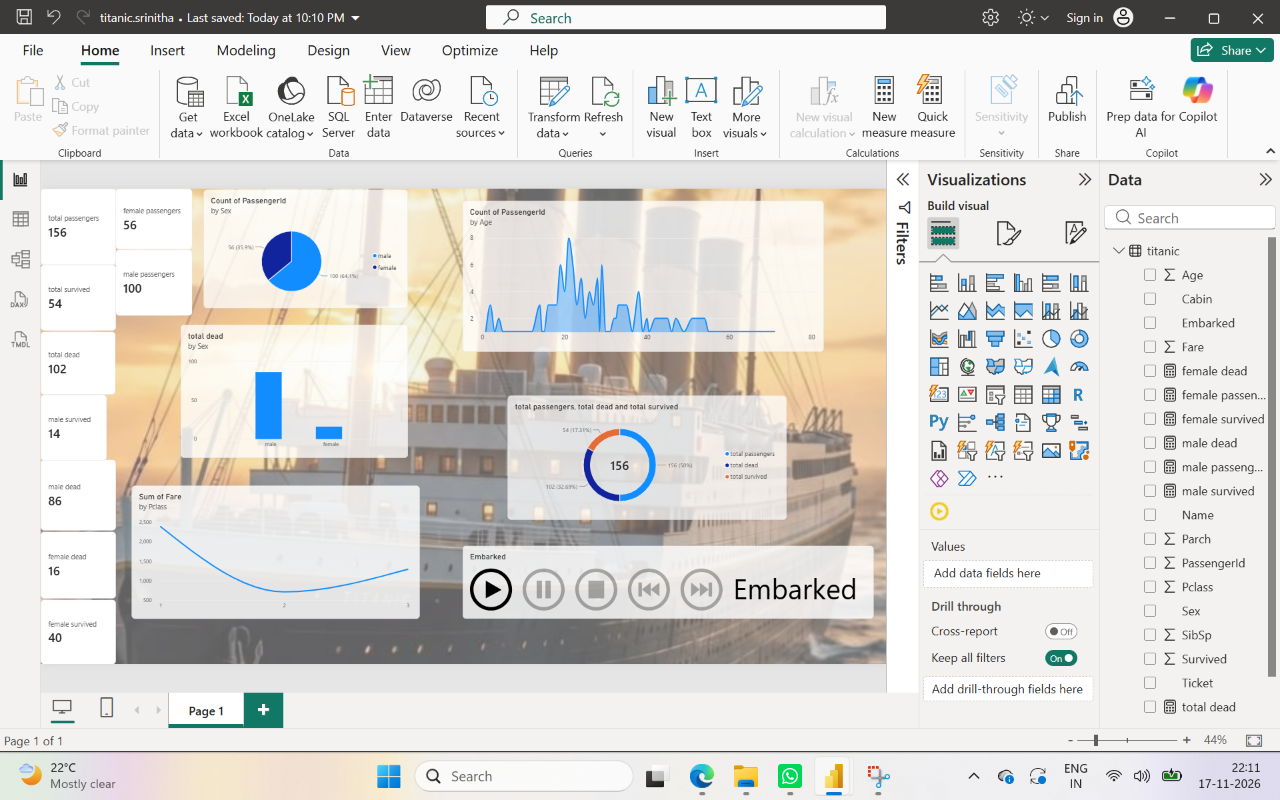

This screenshot's page, from the dashboard's own definition file:
{"tool":"powerbi","page":{"name":"Page 1","canvas":[1920,1080],"ordinal":0},"visuals":[{"type":"cardVisual","fields":{"Data":["titanic.total passengers"]},"box":[0,0,171.4,173.8],"z":0},{"type":"cardVisual","fields":{"Data":["titanic.female passengers"]},"box":[171.4,0,174,138],"z":1},{"type":"cardVisual","fields":{"Data":["titanic.male dead"]},"box":[0,616.7,171.4,161.9],"z":2},{"type":"cardVisual","fields":{"Data":["titanic.male survived"]},"box":[0,467.9,150,150],"z":3},{"type":"cardVisual","fields":{"Data":["titanic.female dead"]},"box":[0,778.6,171.4,152.4],"z":4},{"type":"cardVisual","fields":{"Data":["titanic.female survived"]},"box":[0,933.3,171.4,147.6],"z":5},{"type":"cardVisual","fields":{"Data":["titanic.total dead"]},"box":[0,324.8,170.3,143.1],"z":6},{"type":"cardVisual","fields":{"Data":["titanic.total survived"]},"box":[0,173.8,171.4,150],"z":7},{"type":"pieChart","fields":{"Category":["titanic.Sex"],"Y":["CountNonNull(titanic.PassengerId)"]},"box":[370.5,2.3,464.3,269],"z":8},{"type":"donutChart","fields":{"Y":["titanic.total passengers","titanic.total dead","titanic.total survived"]},"box":[1061.4,470.5,634.1,281.8],"z":10},{"type":"cardVisual","fields":{"Data":["titanic.male passengers"]},"box":[171.4,138.1,174,150],"z":11},{"type":"clusteredColumnChart","fields":{"Category":["titanic.Sex"],"Y":["titanic.total dead"]},"box":[318.2,309.1,516.7,302.4],"z":12},{"type":"lineChart","fields":{"Category":["titanic.Pclass"],"Y":["Sum(titanic.Fare)"]},"box":[206.8,675,654.8,302.4],"z":13},{"type":"PBI_CV_16948668_E17D_454B_8664_2F2C470EA8C1","fields":{"category":["titanic.Embarked"]},"box":[959.1,811.4,934.1,165.9],"z":15},{"type":"areaChart","fields":{"Category":["titanic.Age"],"Y":["CountNonNull(titanic.PassengerId)"]},"box":[959.1,27.3,820.5,343.2],"z":16}]}

Visuals, with their boxes on the page's 1920x1080 design canvas (x1, y1, x2, y2). These are canvas units, not pixel positions in the 1280x800 screenshot, which may show the page scaled, cropped or inside an application window:
cardVisual - titanic.total passengers: locate(0, 0, 171, 174)
cardVisual - titanic.female passengers: locate(171, 0, 345, 138)
cardVisual - titanic.male dead: locate(0, 617, 171, 779)
cardVisual - titanic.male survived: locate(0, 468, 150, 618)
cardVisual - titanic.female dead: locate(0, 779, 171, 931)
cardVisual - titanic.female survived: locate(0, 933, 171, 1081)
cardVisual - titanic.total dead: locate(0, 325, 170, 468)
cardVisual - titanic.total survived: locate(0, 174, 171, 324)
pieChart - titanic.Sex x CountNonNull(titanic.PassengerId): locate(370, 2, 835, 271)
donutChart - titanic.total passengers x titanic.total dead: locate(1061, 470, 1696, 752)
cardVisual - titanic.male passengers: locate(171, 138, 345, 288)
clusteredColumnChart - titanic.Sex x titanic.total dead: locate(318, 309, 835, 612)
lineChart - titanic.Pclass x Sum(titanic.Fare): locate(207, 675, 862, 977)
PBI_CV_16948668_E17D_454B_8664_2F2C470EA8C1 - titanic.Embarked: locate(959, 811, 1893, 977)
areaChart - titanic.Age x CountNonNull(titanic.PassengerId): locate(959, 27, 1780, 370)
